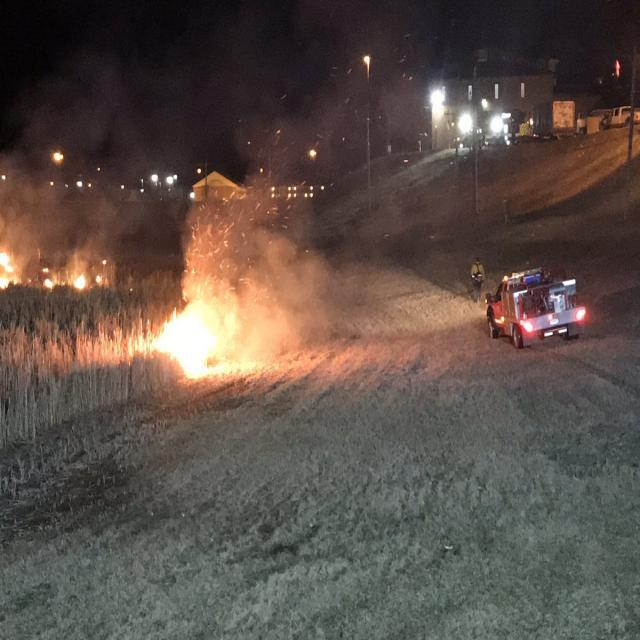Fire: (131, 300, 227, 376), (2, 249, 20, 289), (40, 266, 54, 289), (72, 272, 86, 288)
